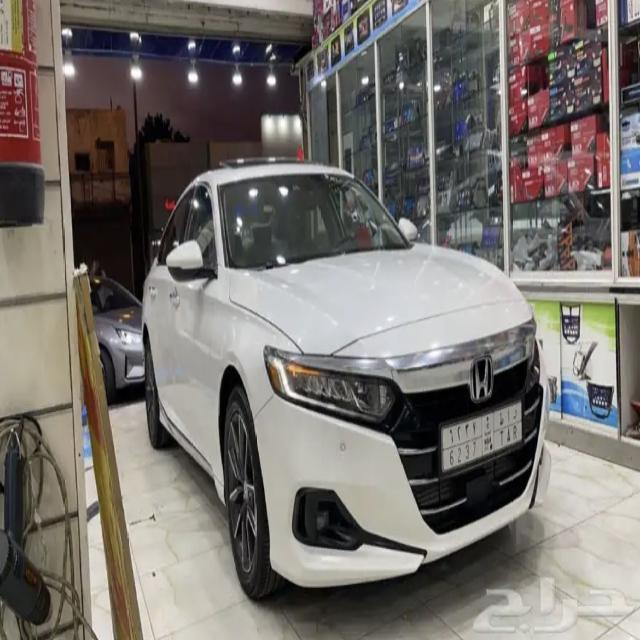license_plate: (438, 399, 524, 471)
